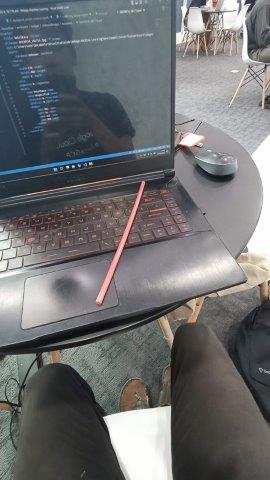sedotan: (96, 182, 145, 305)
